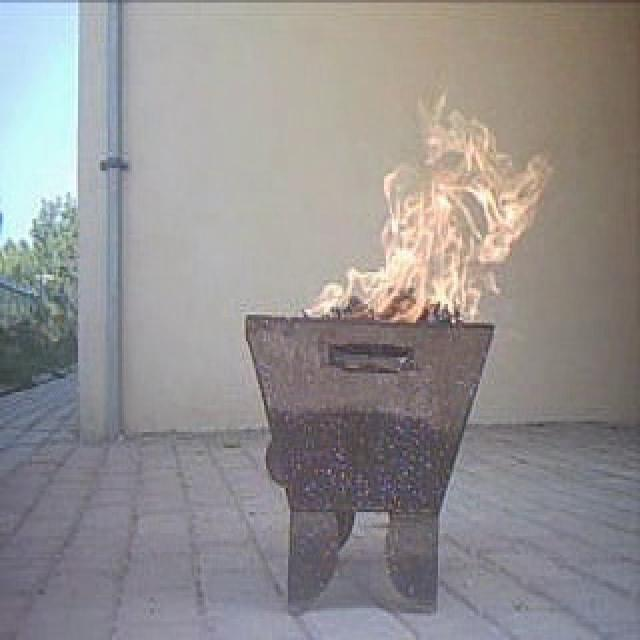fire: (375, 113, 524, 321)
